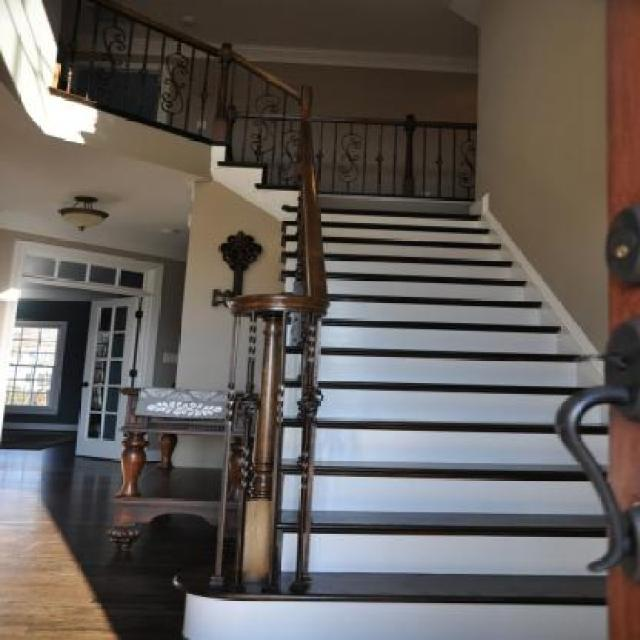stair: (51, 86, 617, 640)
